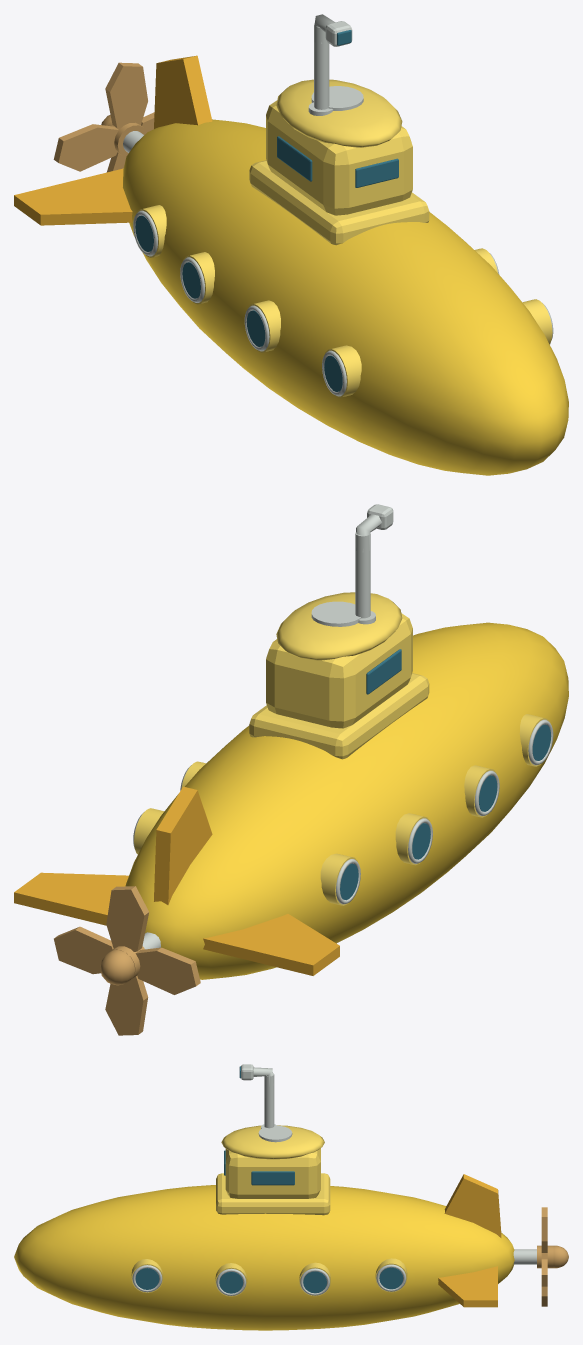
Rendered from submarine_yellow.glb.
The picture shows the model from 3 angles, top to bottom: view 1: azimuth 30°, elevation 25°; view 2: azimuth 150°, elevation 25°; view 3: azimuth 270°, elevation 25°; orthographic projection. The views are drawn at different scales.
Visible parts, largest first — view 1: Submarine rounded closed hull, Submarine rounded conning tower, Submarine rounded tower roof, Submarine horizontal stern fin, Submarine conning tower foundation, Submarine upright stern rudder, Submarine bronze propeller blade.001, Submarine bronze propeller blade.002, Submarine upright periscope, Submarine tower front viewport, Submarine porthole mounting collar, Submarine tower side viewport (+5 smaller); view 2: Submarine rounded closed hull, Submarine rounded conning tower, Submarine rounded tower roof, Submarine horizontal stern fin, Submarine conning tower foundation, Submarine upright stern rudder, Submarine horizontal stern fin.001, Submarine bronze propeller blade.001, Submarine bronze propeller blade.002, Submarine bronze propeller blade.003, Submarine bronze propeller blade, Submarine upright periscope (+7 smaller); view 3: Submarine rounded closed hull, Submarine rounded conning tower, Submarine rounded tower roof, Submarine conning tower foundation, Submarine upright stern rudder, Submarine horizontal stern fin.001, Submarine tower side viewport.001, Submarine upright periscope, Submarine closed tower hatch, Submarine dark porthole pane.007, Submarine dark porthole pane.005, Submarine dark porthole pane.003 (+2 smaller).
Boxes of the visible parts, x1,y1,x2,y2 form: Submarine rounded closed hull: (123,119,568,475); Submarine rounded conning tower: (266,100,412,215); Submarine rounded tower roof: (276,79,402,147); Submarine horizontal stern fin: (14,168,132,225); Submarine conning tower foundation: (249,160,429,245); Submarine upright stern rudder: (154,55,212,128); Submarine bronze propeller blade.001: (105,62,147,128); Submarine bronze propeller blade.002: (53,124,118,171); Submarine upright periscope: (314,24,329,109); Submarine tower front viewport: (355,158,398,187); Submarine porthole mounting collar: (324,345,361,397); Submarine tower side viewport: (277,136,312,181); Submarine rounded closed hull: (125,622,568,979); Submarine rounded conning tower: (266,613,412,728); Submarine rounded tower roof: (276,592,402,660); Submarine horizontal stern fin: (203,914,339,975); Submarine conning tower foundation: (249,673,429,759); Submarine upright stern rudder: (154,786,212,904); Submarine horizontal stern fin.001: (14,872,128,925); Submarine bronze propeller blade.001: (106,886,149,951); Submarine bronze propeller blade.002: (135,947,200,994); Submarine bronze propeller blade.003: (105,976,148,1035); Submarine bronze propeller blade: (54,926,113,974); Submarine upright periscope: (355,532,370,618); Submarine rounded closed hull: (14,1185,514,1330); Submarine rounded conning tower: (225,1148,320,1198); Submarine rounded tower roof: (221,1125,324,1159); Submarine conning tower foundation: (216,1173,330,1215); Submarine upright stern rudder: (444,1174,501,1237); Submarine horizontal stern fin.001: (438,1266,497,1307); Submarine tower side viewport.001: (251,1171,294,1185); Submarine upright periscope: (264,1073,274,1128); Submarine closed tower hatch: (258,1125,292,1142); Submarine dark porthole pane.007: (379,1267,403,1289); Submarine dark porthole pane.005: (303,1271,326,1293); Submarine dark porthole pane.003: (219,1271,243,1293).
Bounding box in the file's own units: 2.9 × 3.61 × 7.28.
